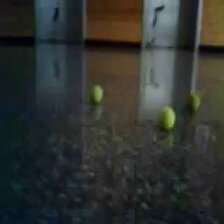tennis: (157, 107, 176, 131), (89, 84, 104, 105), (186, 94, 201, 112)
